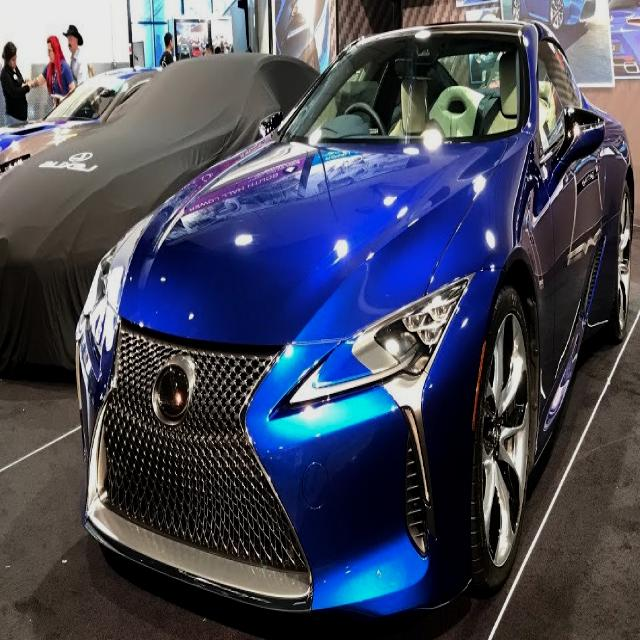blue: (75, 17, 631, 620)
